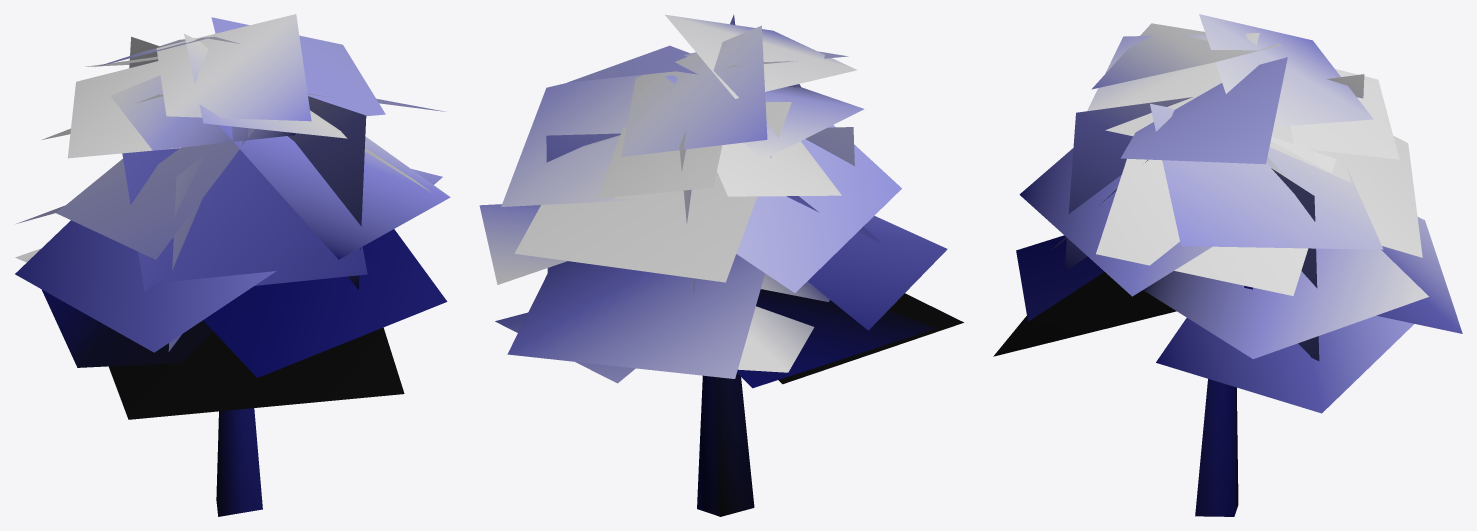
Rendered from Tree2.fbx.
The picture shows the model from 3 angles, left to right: view 1: azimuth 30°, elevation 25°; view 2: azimuth 150°, elevation 25°; view 3: azimuth 270°, elevation 25°; orthographic projection.
Visible parts, largest first — view 1: SM_NEU_TREEHY_01_L1_LOD0; view 2: SM_NEU_TREEHY_01_L1_LOD0; view 3: SM_NEU_TREEHY_01_L1_LOD0.
Boxes of the visible parts, x1,y1,x2,y2 form: SM_NEU_TREEHY_01_L1_LOD0: [15, 14, 450, 516]; SM_NEU_TREEHY_01_L1_LOD0: [479, 14, 963, 516]; SM_NEU_TREEHY_01_L1_LOD0: [993, 14, 1462, 516].
Size of the model in its own units: 377 by 374 by 422.
